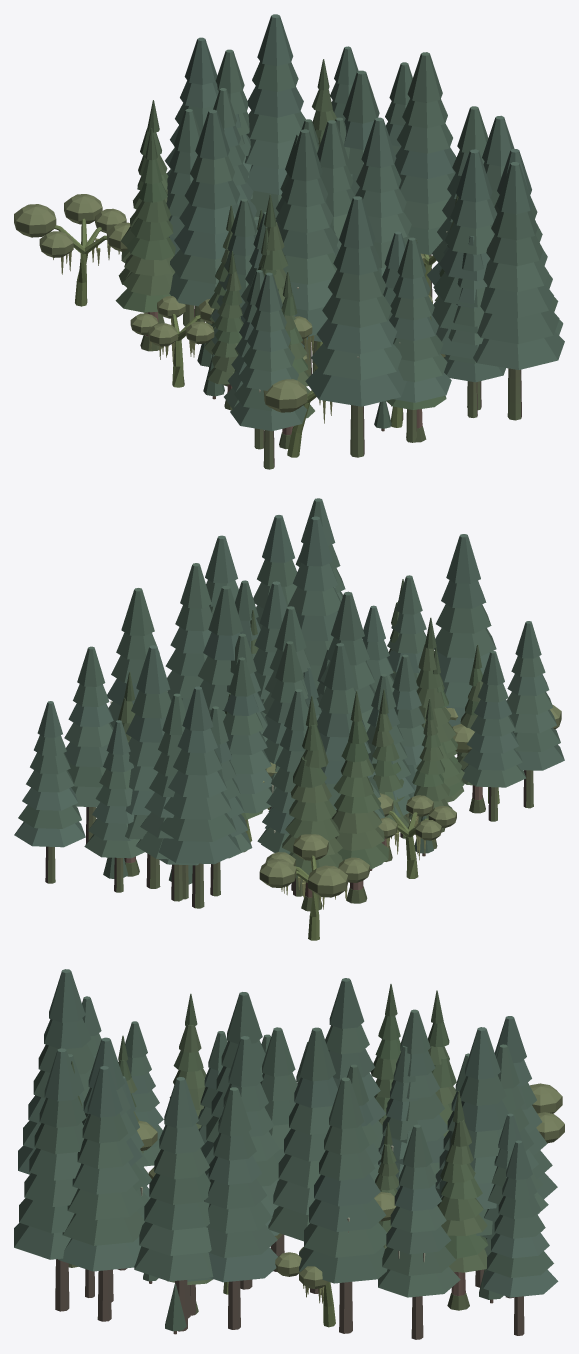
File: Mist_Forest_2_1.fbx
3 views of the same model, one above another, from view 1: azimuth 30°, elevation 25°; view 2: azimuth 150°, elevation 25°; view 3: azimuth 270°, elevation 25° (orthographic). The views are drawn at different scales.
Parts seen in each view (by area): view 1: Mist_Forest_2_1; view 2: Mist_Forest_2_1; view 3: Mist_Forest_2_1.
Part boxes in pixels (x1,y1,x2,y2): Mist_Forest_2_1: (14,14,564,469); Mist_Forest_2_1: (14,498,564,940); Mist_Forest_2_1: (14,969,564,1339).
Size of the model in its own units: 36.58 by 25.13 by 46.7.
